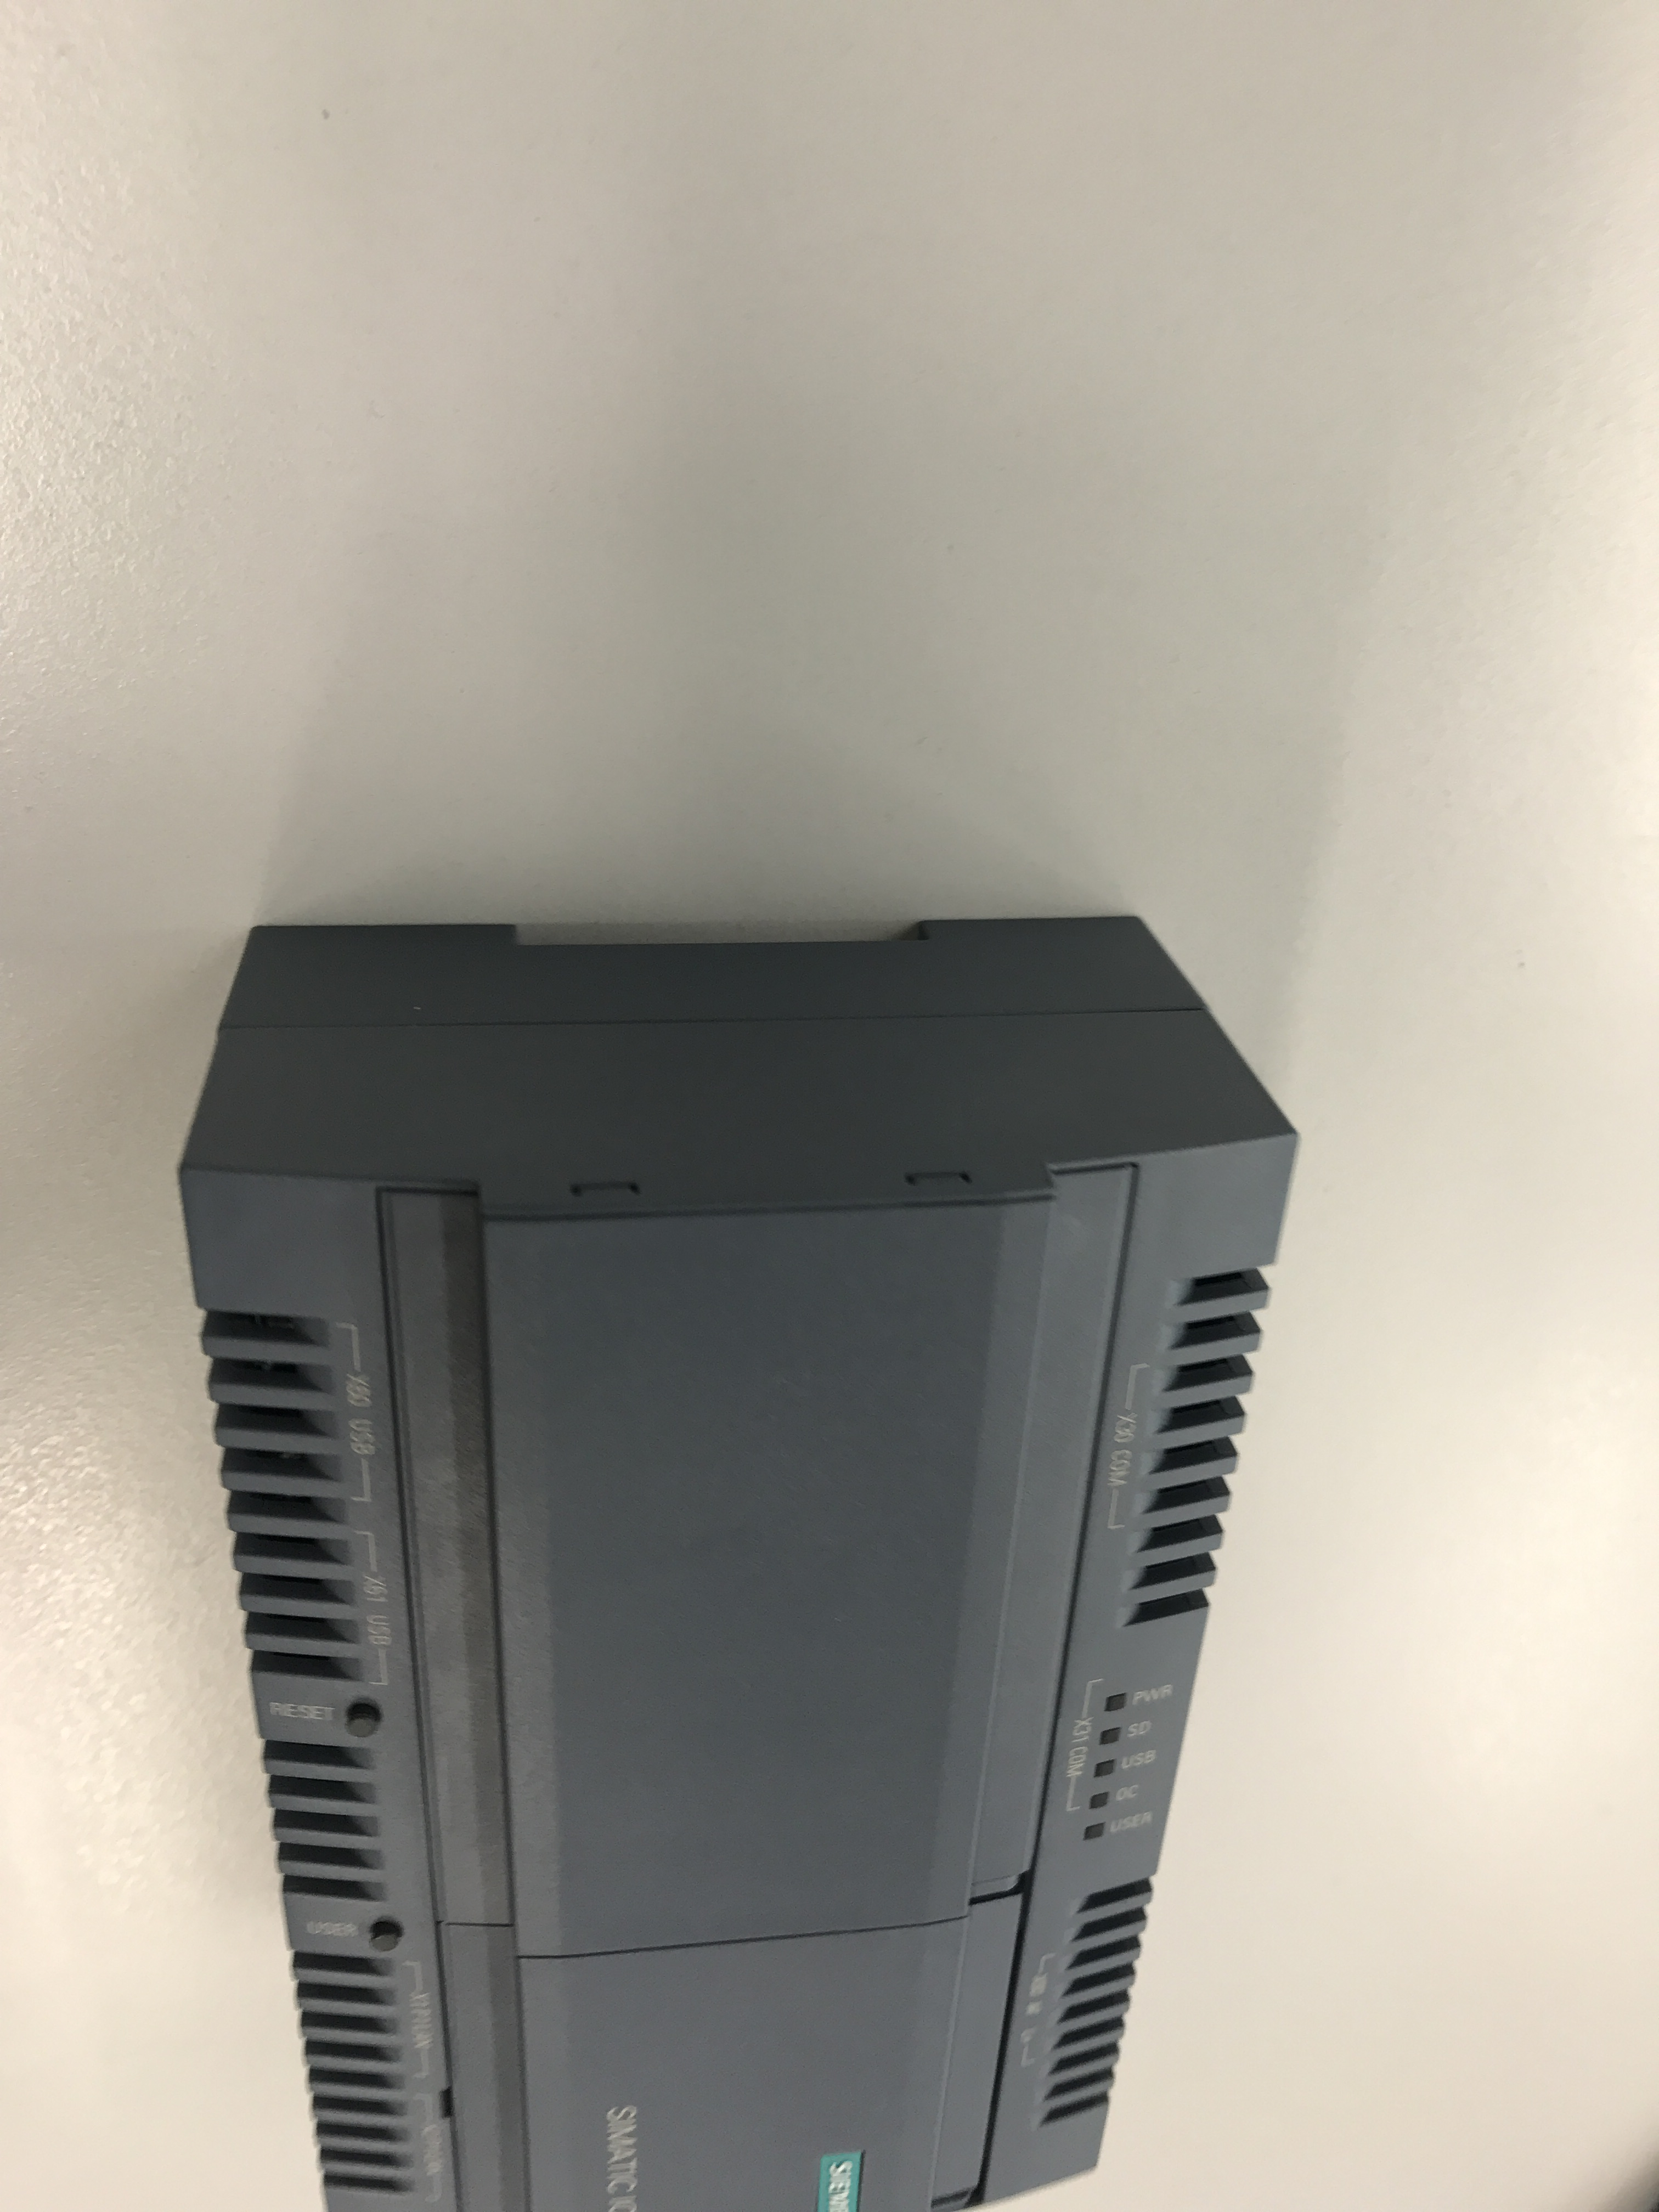device: (173, 911, 1304, 2212)
